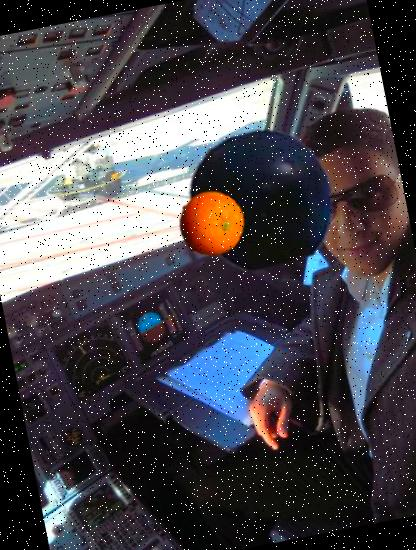Grape: (178, 116, 344, 282)
Orange: (172, 185, 250, 262)
